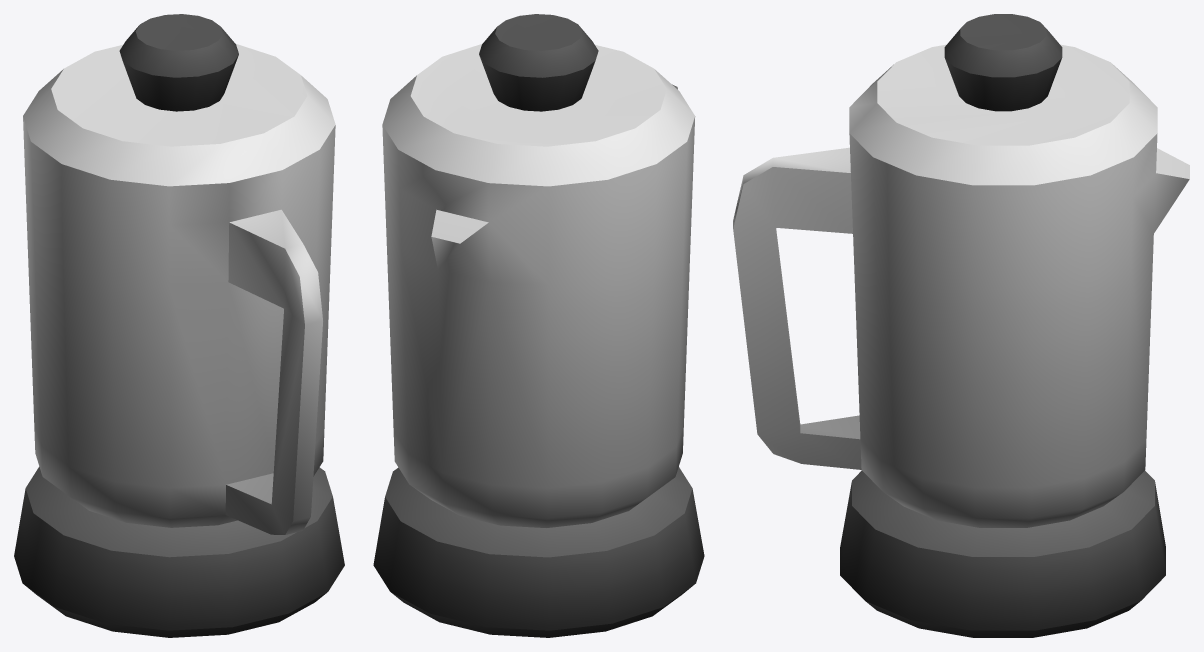
The model's file is Kettle.fbx.
The picture shows the model from 3 angles, left to right: view 1: azimuth 30°, elevation 25°; view 2: azimuth 150°, elevation 25°; view 3: azimuth 270°, elevation 25°; orthographic projection.
Parts seen in each view (by area): view 1: kettle; view 2: kettle; view 3: kettle.
Boxes of the visible parts, x1,y1,x2,y2 form: kettle: [14, 14, 344, 637]; kettle: [373, 14, 704, 637]; kettle: [733, 14, 1189, 637].
Size of the model in its own units: 24.77 by 45.5 by 34.68.
Materials: 1 (1 with a texture image).
